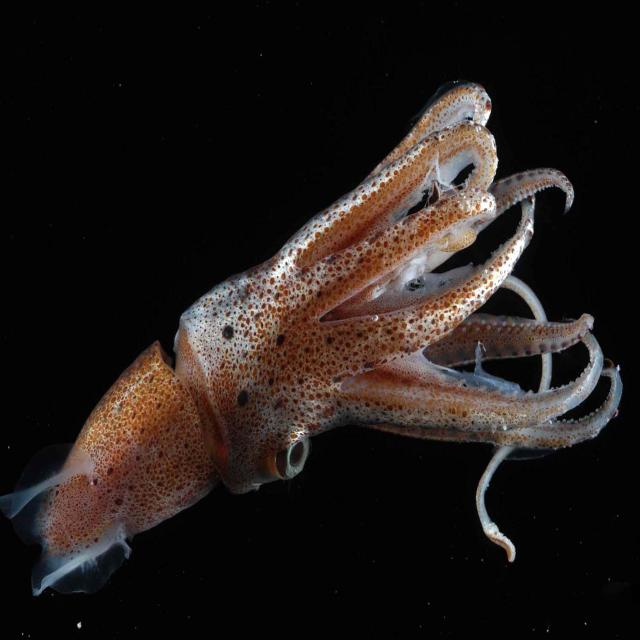SQUID: (17, 52, 640, 613)
